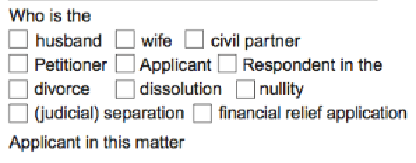checkbox: (181, 28, 204, 52), (113, 77, 135, 101), (190, 102, 212, 126), (233, 78, 255, 102), (6, 78, 28, 101), (113, 27, 135, 50), (113, 52, 135, 75), (215, 52, 237, 75), (6, 28, 28, 50), (6, 53, 28, 75), (6, 102, 28, 124)
